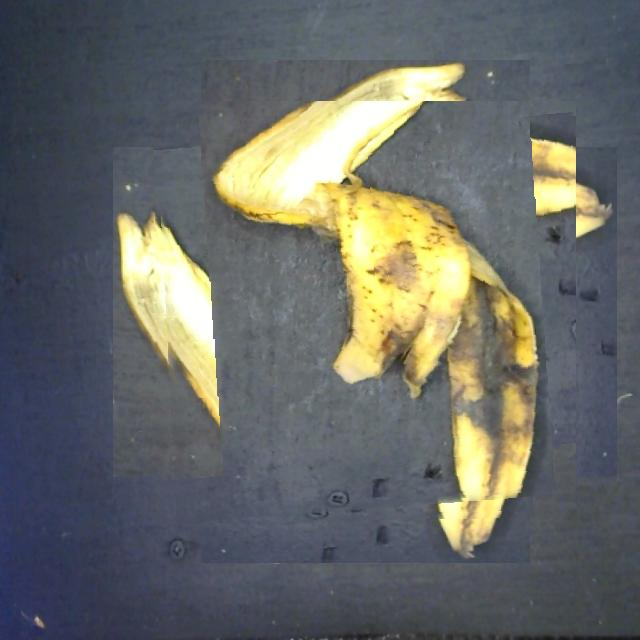biodegradable: (155, 101, 576, 523)
